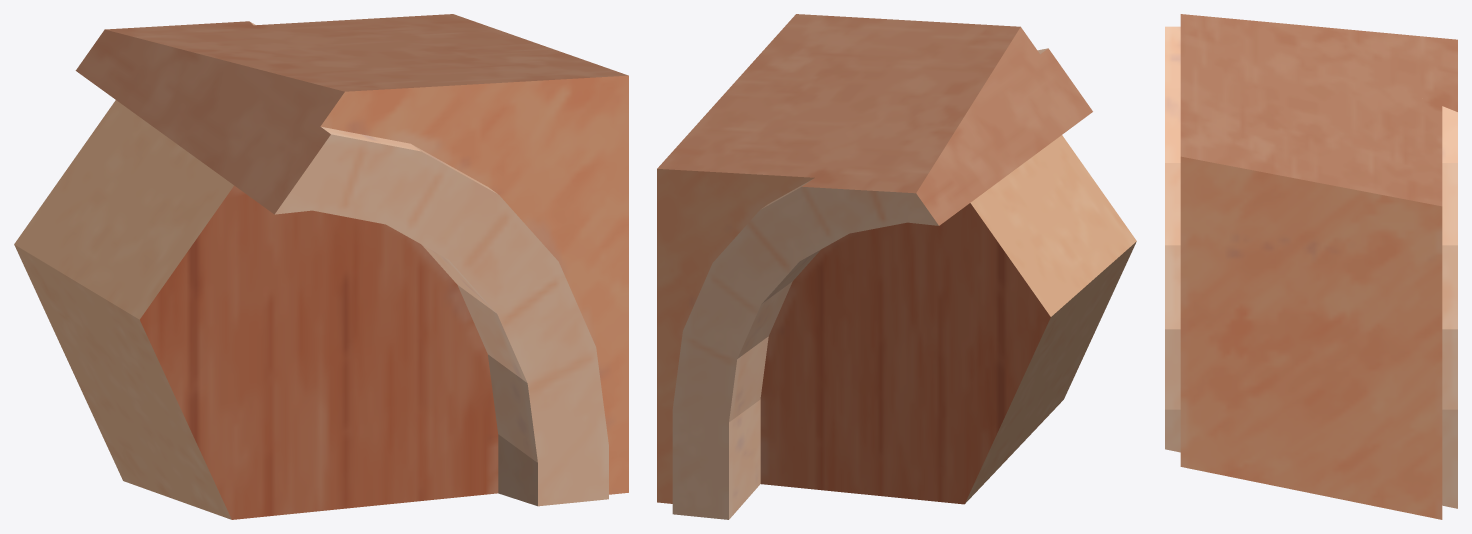
File: towngate_s00.fbx
The picture shows the model from 3 angles, left to right: view 1: azimuth 30°, elevation 25°; view 2: azimuth 150°, elevation 25°; view 3: azimuth 270°, elevation 25°; orthographic projection. The views are drawn at different scales.
Visible parts, largest first — view 1: towngate_s00; view 2: towngate_s00; view 3: towngate_s00.
Part boxes in pixels (bbox=[...]): towngate_s00: bbox=[14, 14, 628, 519]; towngate_s00: bbox=[657, 14, 1136, 519]; towngate_s00: bbox=[1165, 14, 1457, 519].
Size of the model in its own units: 4.62 by 5.1 by 3.36.
